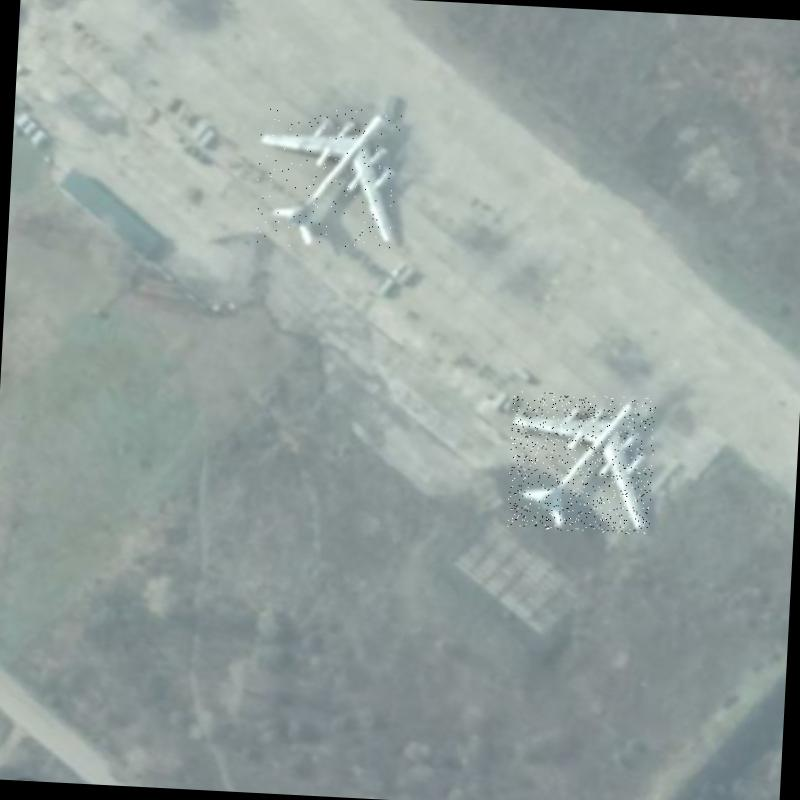A17: (254, 104, 404, 252), (507, 391, 656, 535)
